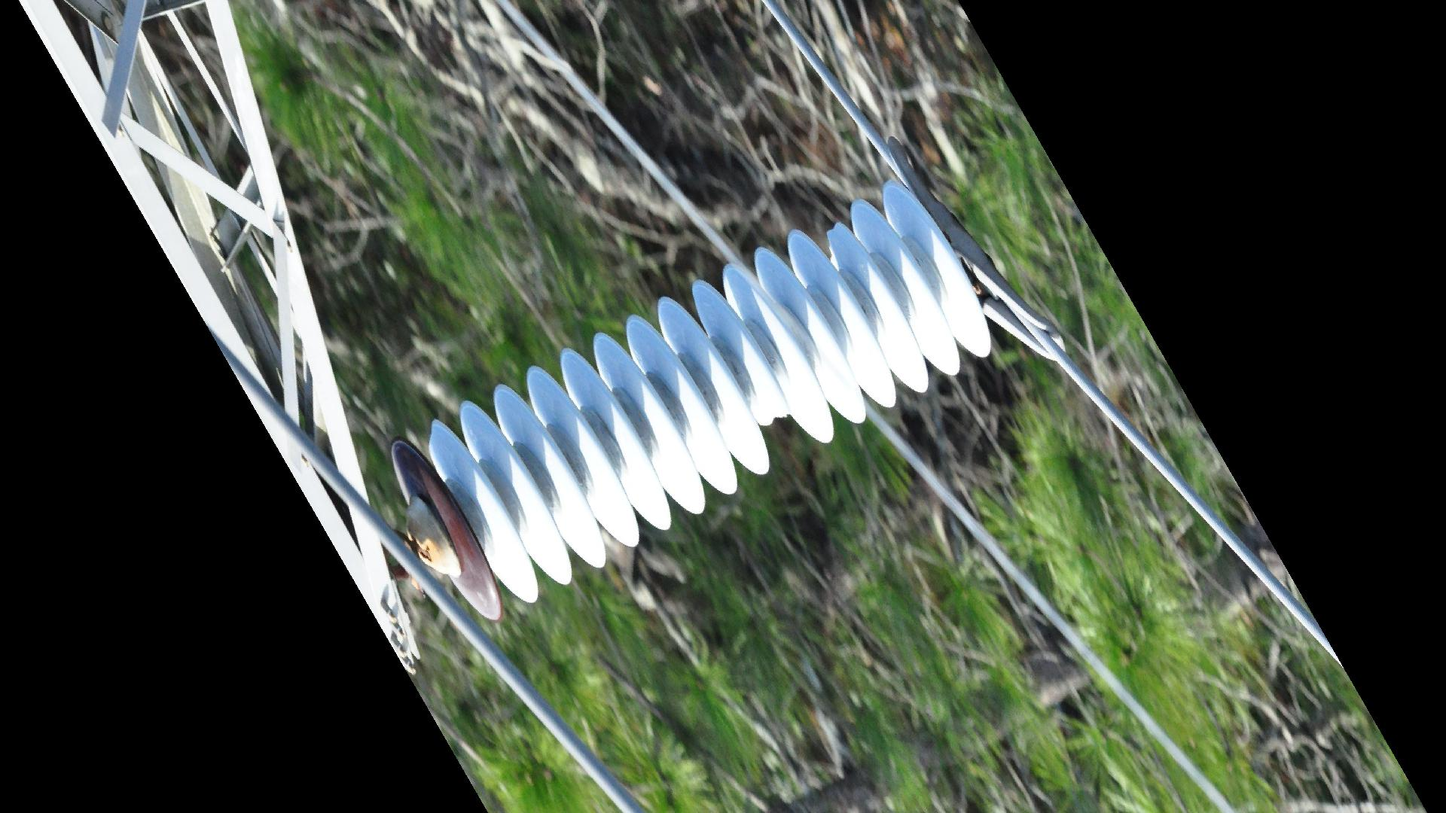insulator: (387, 169, 993, 632)
insulator_breakage: (753, 406, 795, 429)
